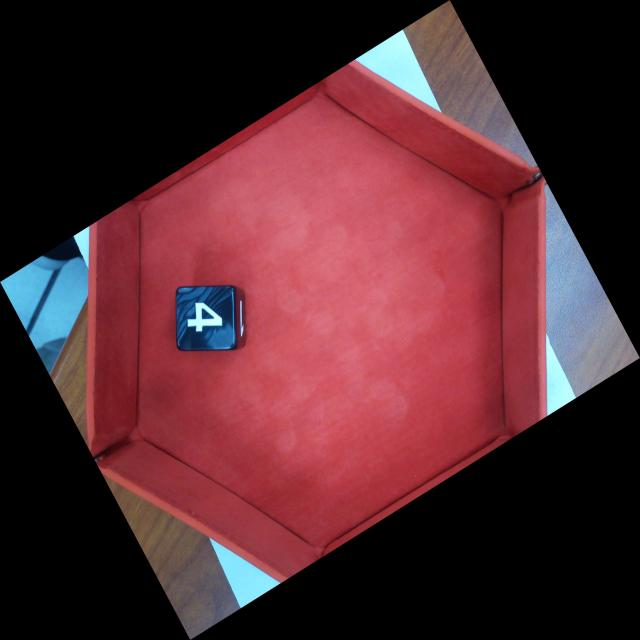dice: (176, 285, 237, 351)
